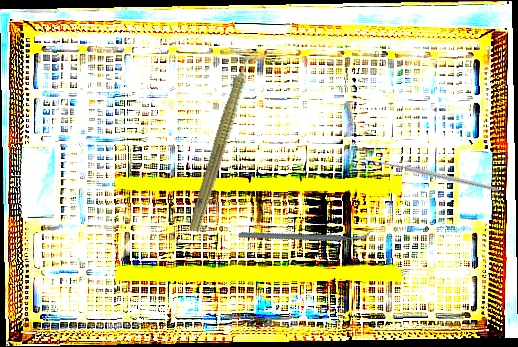Chopper: (237, 180, 373, 289)
Handpiece: (185, 41, 264, 235)
Hook Surgical: (354, 104, 501, 249)
